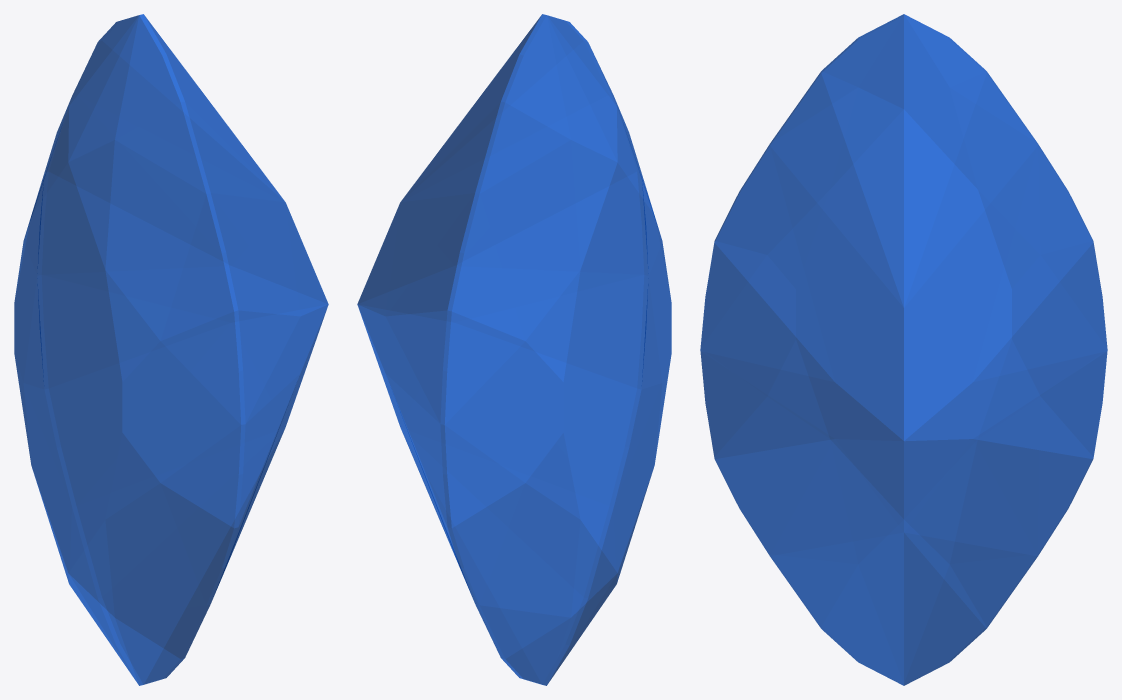
The model's file is marquise lazulli.glb.
3 renders of one model, left to right at view 1: azimuth 30°, elevation 25°; view 2: azimuth 150°, elevation 25°; view 3: azimuth 270°, elevation 25°, orthographic.
Parts seen in each view (by area): view 1: Marquise; view 2: Marquise; view 3: Marquise.
Part boxes in pixels (x1=…): Marquise: x1=14, y1=14, x2=328, y2=685; Marquise: x1=357, y1=14, x2=671, y2=685; Marquise: x1=700, y1=14, x2=1107, y2=685.
Size of the model in its own units: 0.8446 by 2.08 by 1.15.
